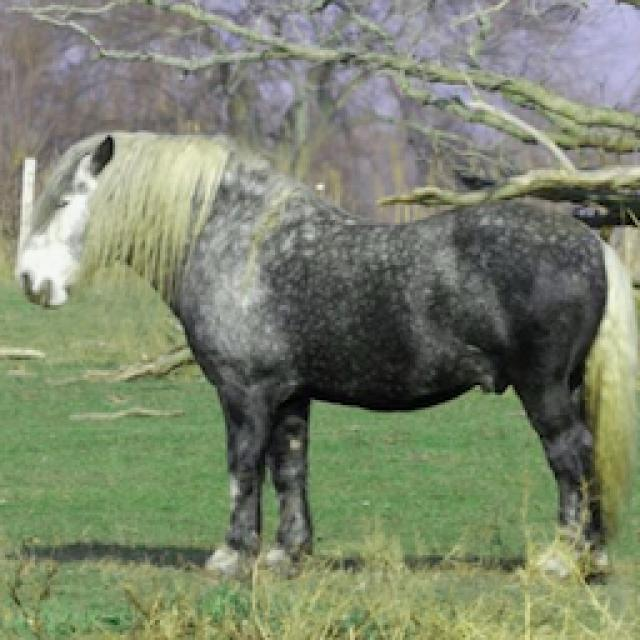Horse: (8, 120, 640, 590)
